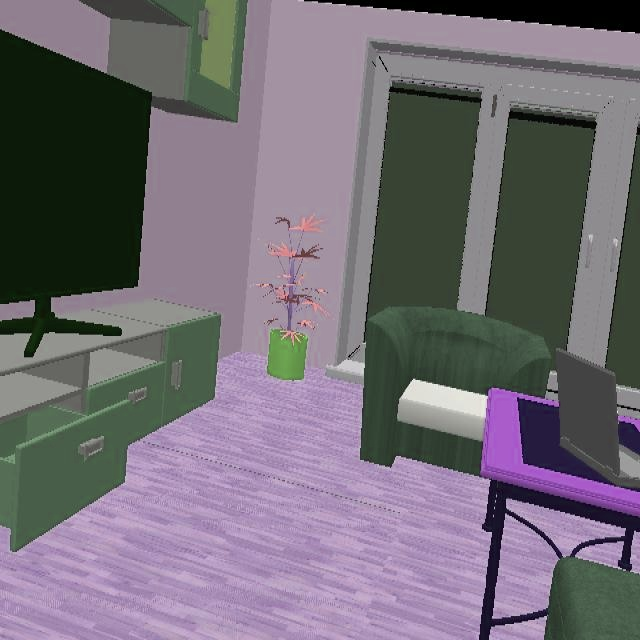cabinet: (0, 300, 220, 549), (82, 0, 247, 121)
laptop: (558, 348, 640, 488)
monitor: (0, 30, 152, 356)
sofa: (360, 307, 551, 474)
table: (480, 388, 640, 638)
